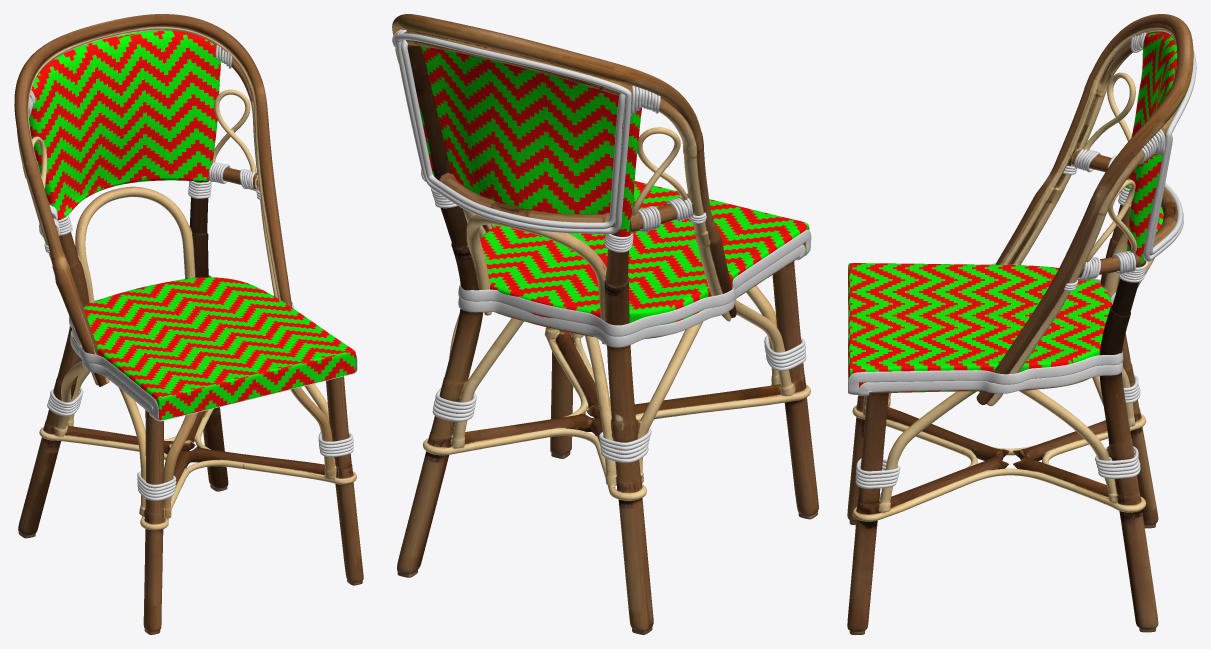
Rendered from ogive-chevron.glb.
3 renders of one model, left to right at view 1: azimuth 30°, elevation 25°; view 2: azimuth 150°, elevation 25°; view 3: azimuth 270°, elevation 25°, orthographic. The views are drawn at different scales.
Visible parts, largest first — view 1: mesh_tressage, mesh_structure, mesh_laniere; view 2: mesh_structure, mesh_tressage, mesh_laniere; view 3: mesh_structure, mesh_tressage, mesh_laniere.
Boxes of the visible parts, x1,y1,x2,y2 form: mesh_tressage: (29,30,355,420); mesh_structure: (14,14,363,634); mesh_laniere: (14,44,357,500); mesh_structure: (392,14,818,634); mesh_tressage: (416,46,809,334); mesh_laniere: (392,29,811,462); mesh_structure: (847,14,1193,634); mesh_tressage: (848,32,1177,391); mesh_laniere: (848,32,1196,488).
Bounding box in the file's own units: 0.481 × 0.9003 × 0.5384.
2 materials, 2 textured.
